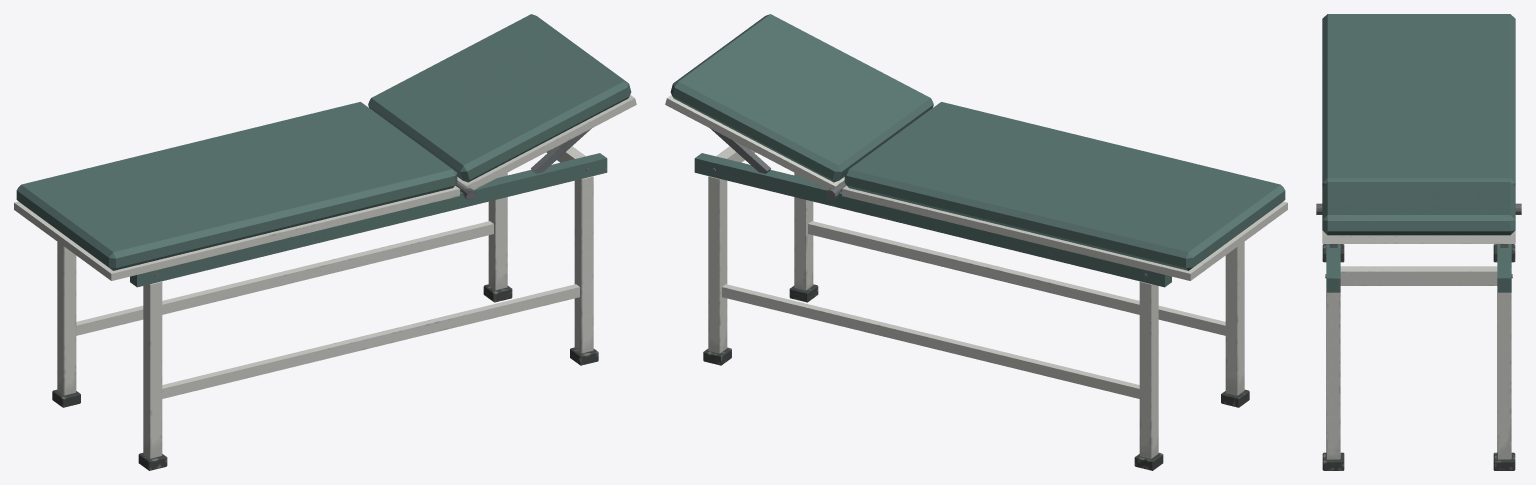
File: clinic_examination_bed_bare.glb
3 renders of one model, left to right at view 1: azimuth 30°, elevation 25°; view 2: azimuth 150°, elevation 25°; view 3: azimuth 270°, elevation 25°, orthographic.
Visible parts, largest first — view 1: ClinicBedBare; view 2: ClinicBedBare; view 3: ClinicBedBare.
Boxes of the visible parts, <box> form: ClinicBedBare: <box>14,14,636,470</box>; ClinicBedBare: <box>665,14,1287,470</box>; ClinicBedBare: <box>1316,14,1521,470</box>.
Size of what is drawn, in the model's own units: 1.9 by 0.9393 by 0.65.
Materials: 1 (1 with a texture image).
